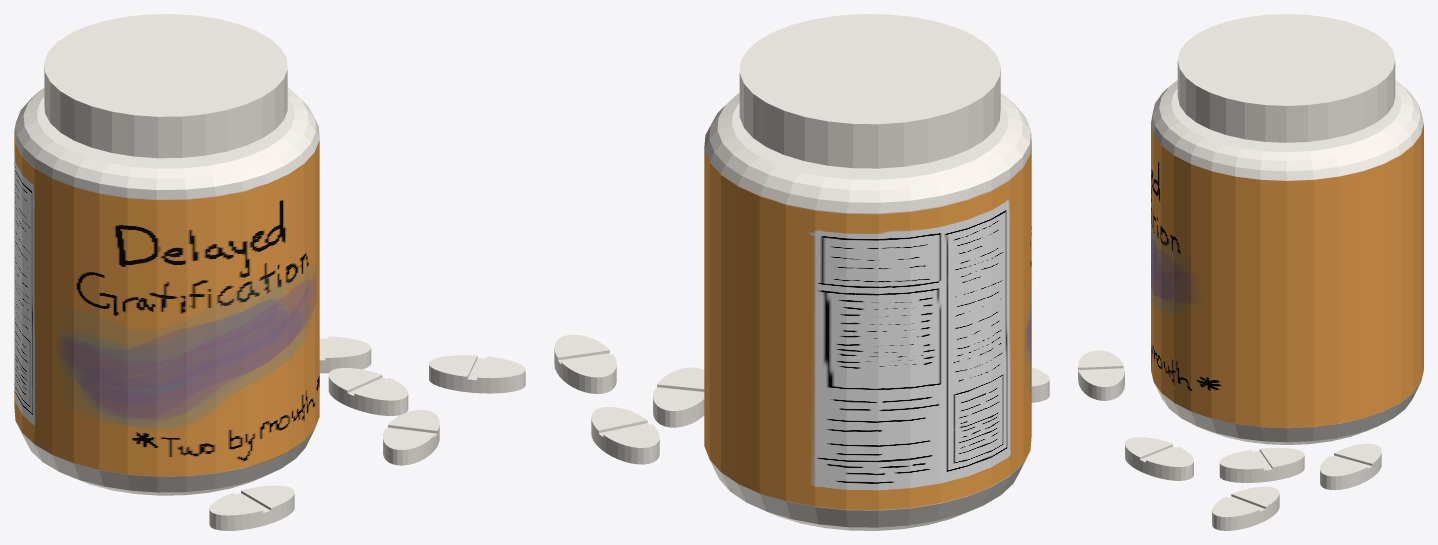
File: NauseaMedication.glb
3 views of the same model, side by side, from view 1: azimuth 30°, elevation 25°; view 2: azimuth 150°, elevation 25°; view 3: azimuth 270°, elevation 25° (orthographic). The views are drawn at different scales.
Visible parts, largest first — view 1: Cylinder.006; view 2: Cylinder.006; view 3: Cylinder.006.
Part boxes in pixels (x1=…): Cylinder.006: x1=14, y1=14, x2=525, y2=530; Cylinder.006: x1=554, y1=14, x2=1049, y2=530; Cylinder.006: x1=1078, y1=14, x2=1423, y2=530.
Bounding box in the file's own units: 0.1585 × 0.1259 × 0.1171.
Materials: 2 (2 with a texture image).
